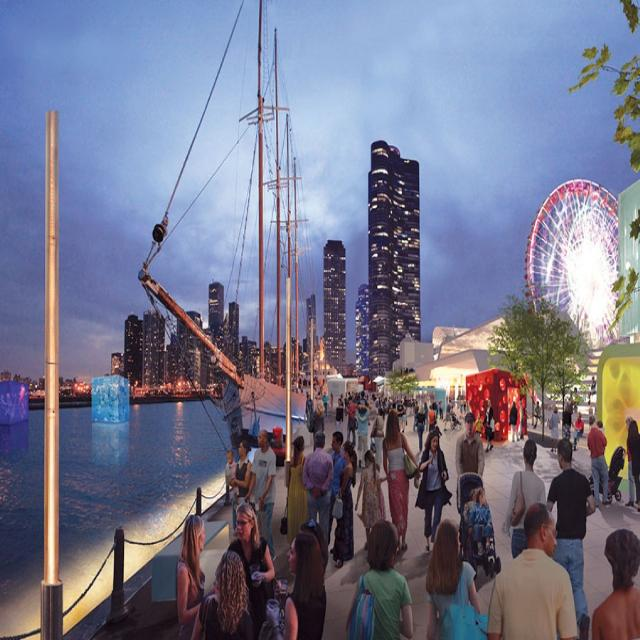body: (484, 501, 579, 640), (546, 436, 598, 640), (423, 516, 491, 640), (345, 518, 414, 639), (265, 531, 327, 639), (227, 500, 277, 630), (189, 548, 258, 639), (500, 436, 548, 561), (380, 405, 420, 554), (250, 354, 332, 425), (590, 527, 640, 640), (412, 426, 452, 556), (244, 429, 277, 564), (174, 513, 206, 640), (329, 437, 358, 572), (382, 389, 472, 432), (302, 429, 334, 547), (279, 433, 308, 550), (353, 446, 382, 553), (326, 430, 349, 556), (586, 412, 612, 510), (298, 517, 330, 593), (464, 484, 495, 559), (454, 411, 485, 479), (353, 401, 372, 470), (621, 415, 635, 508), (230, 439, 252, 498), (624, 416, 638, 508), (369, 405, 387, 474), (570, 373, 598, 413), (480, 398, 496, 454), (340, 385, 382, 406), (225, 447, 240, 501), (344, 395, 358, 447), (412, 401, 426, 453), (354, 389, 373, 427), (590, 417, 608, 457), (376, 462, 388, 521), (546, 404, 560, 454), (507, 399, 521, 443), (570, 410, 584, 452), (561, 405, 573, 443), (335, 396, 345, 433), (531, 398, 542, 430), (517, 400, 525, 442), (428, 403, 438, 435), (474, 415, 484, 439)
